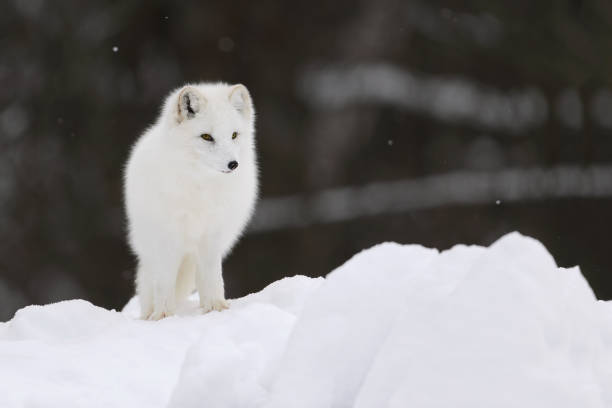arcticfox: (172, 90, 260, 182)
